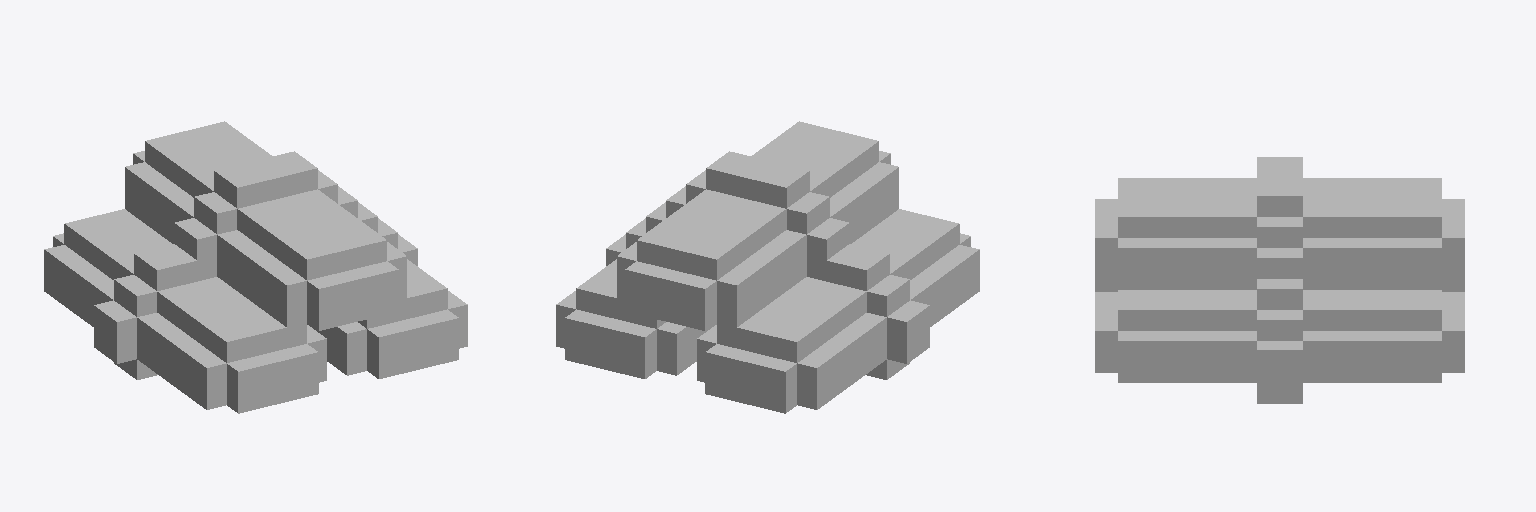
File: SmallReinforcedSteel.obj
The picture shows the model from 3 angles: view 1: azimuth 30°, elevation 25°; view 2: azimuth 150°, elevation 25°; view 3: azimuth 270°, elevation 25°; orthographic projection.
Parts seen in each view (by area): view 1: object 1; view 2: object 1; view 3: object 1.
Part boxes in pixels (x1,y1,x2,y2): object 1: (44,121,467,413); object 1: (556,121,979,413); object 1: (1095,157,1464,403).
Bounding box in the file's own units: 1.5 × 0.8 × 1.6.